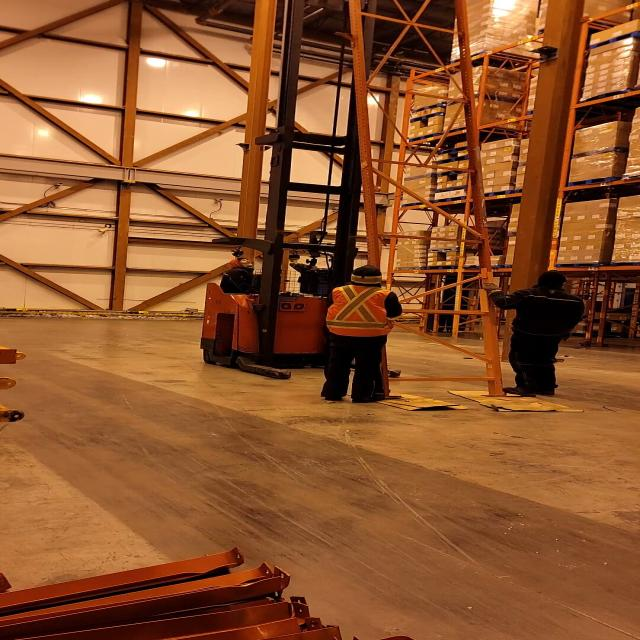forklift: (195, 130, 406, 382)
human: (480, 268, 587, 400), (315, 262, 405, 406), (216, 256, 279, 296)
objectofinterest: (338, 7, 525, 401), (447, 386, 592, 415), (348, 388, 464, 412)
